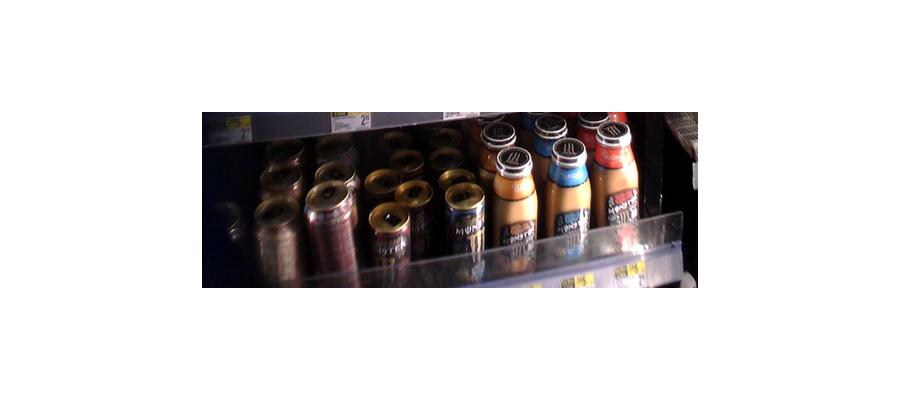bottle: (544, 135, 592, 263), (304, 168, 356, 284), (595, 121, 641, 246), (492, 148, 537, 275), (253, 180, 303, 287), (443, 177, 485, 281), (364, 197, 408, 284)
